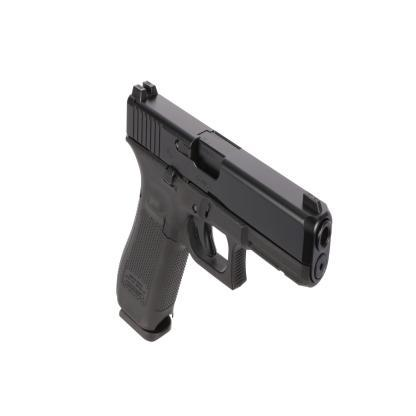Pistol: (115, 79, 334, 342)
